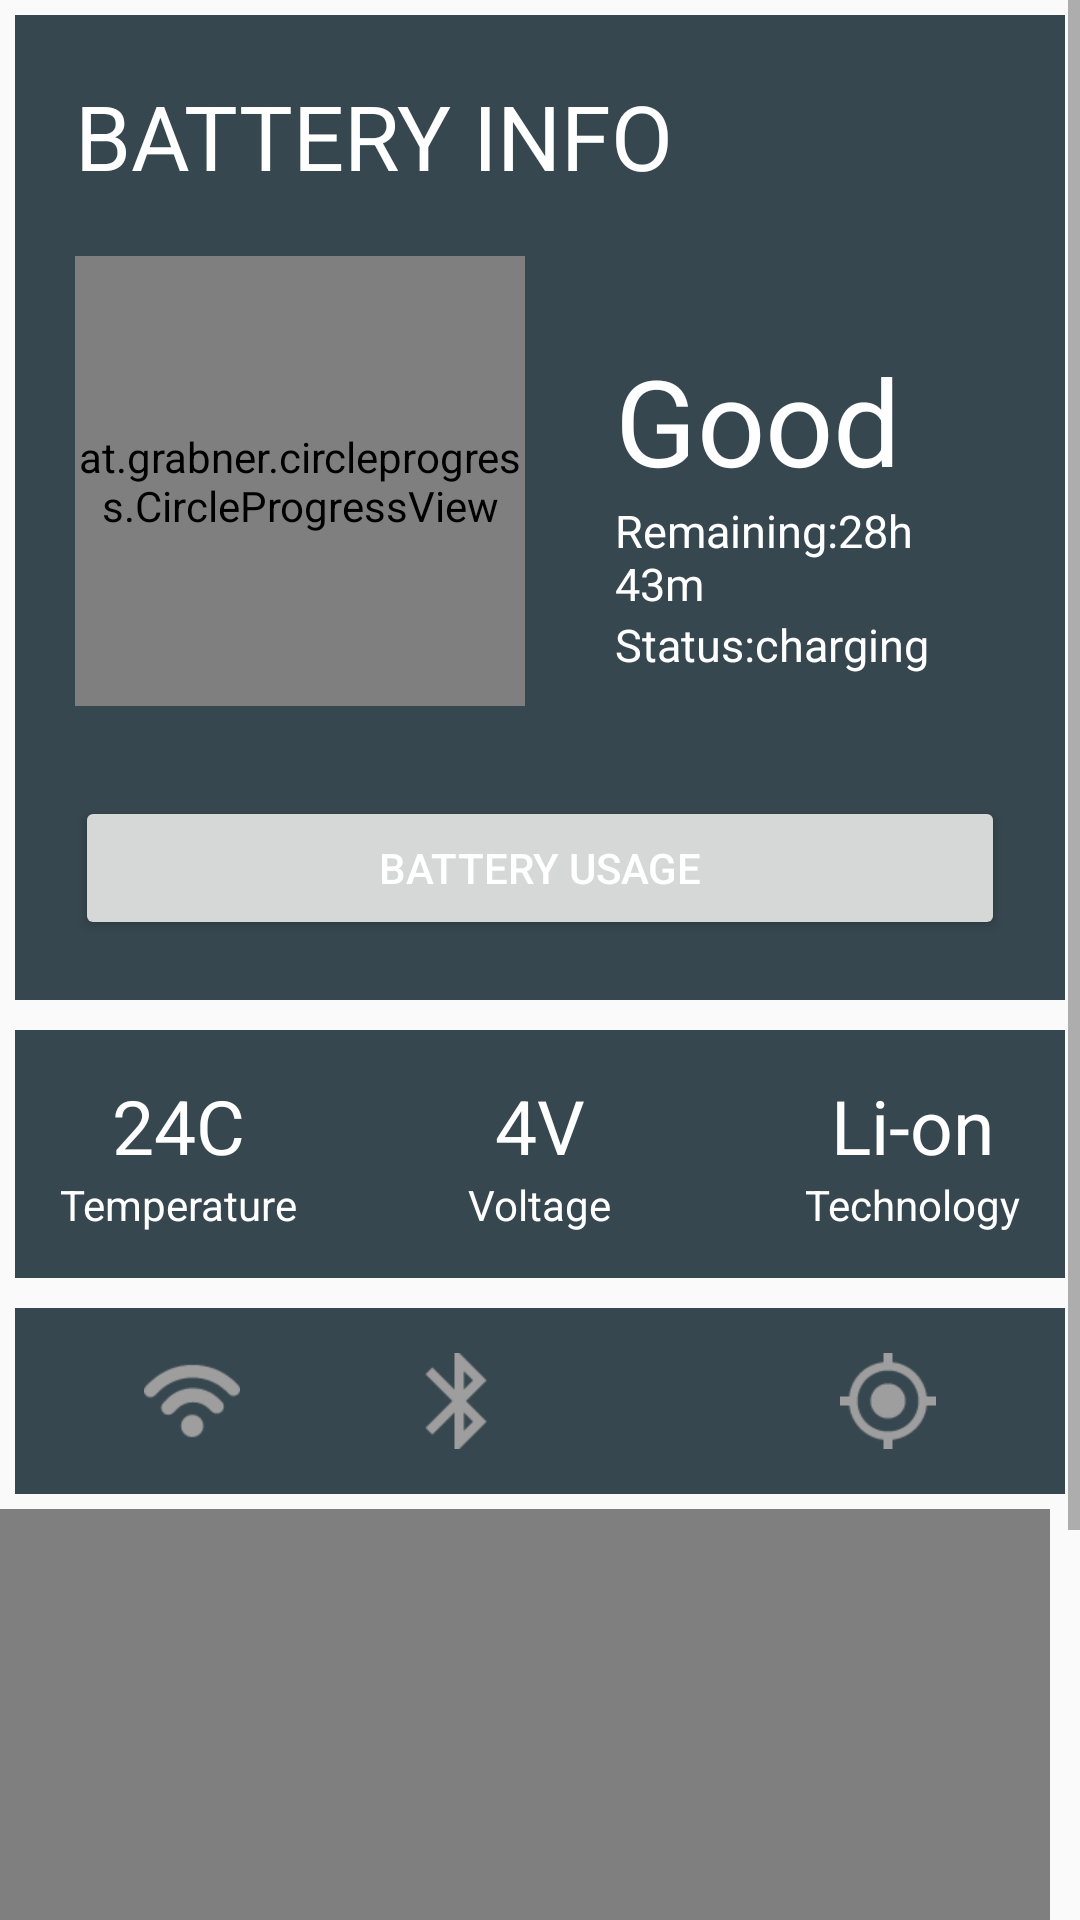

Where icons sit on this 1080 x 1920 app screen, as BBox(x1, y1, x2, y2):
gpsoff: BBox(840, 1353, 936, 1449)
wifioff: BBox(144, 1365, 240, 1437)
